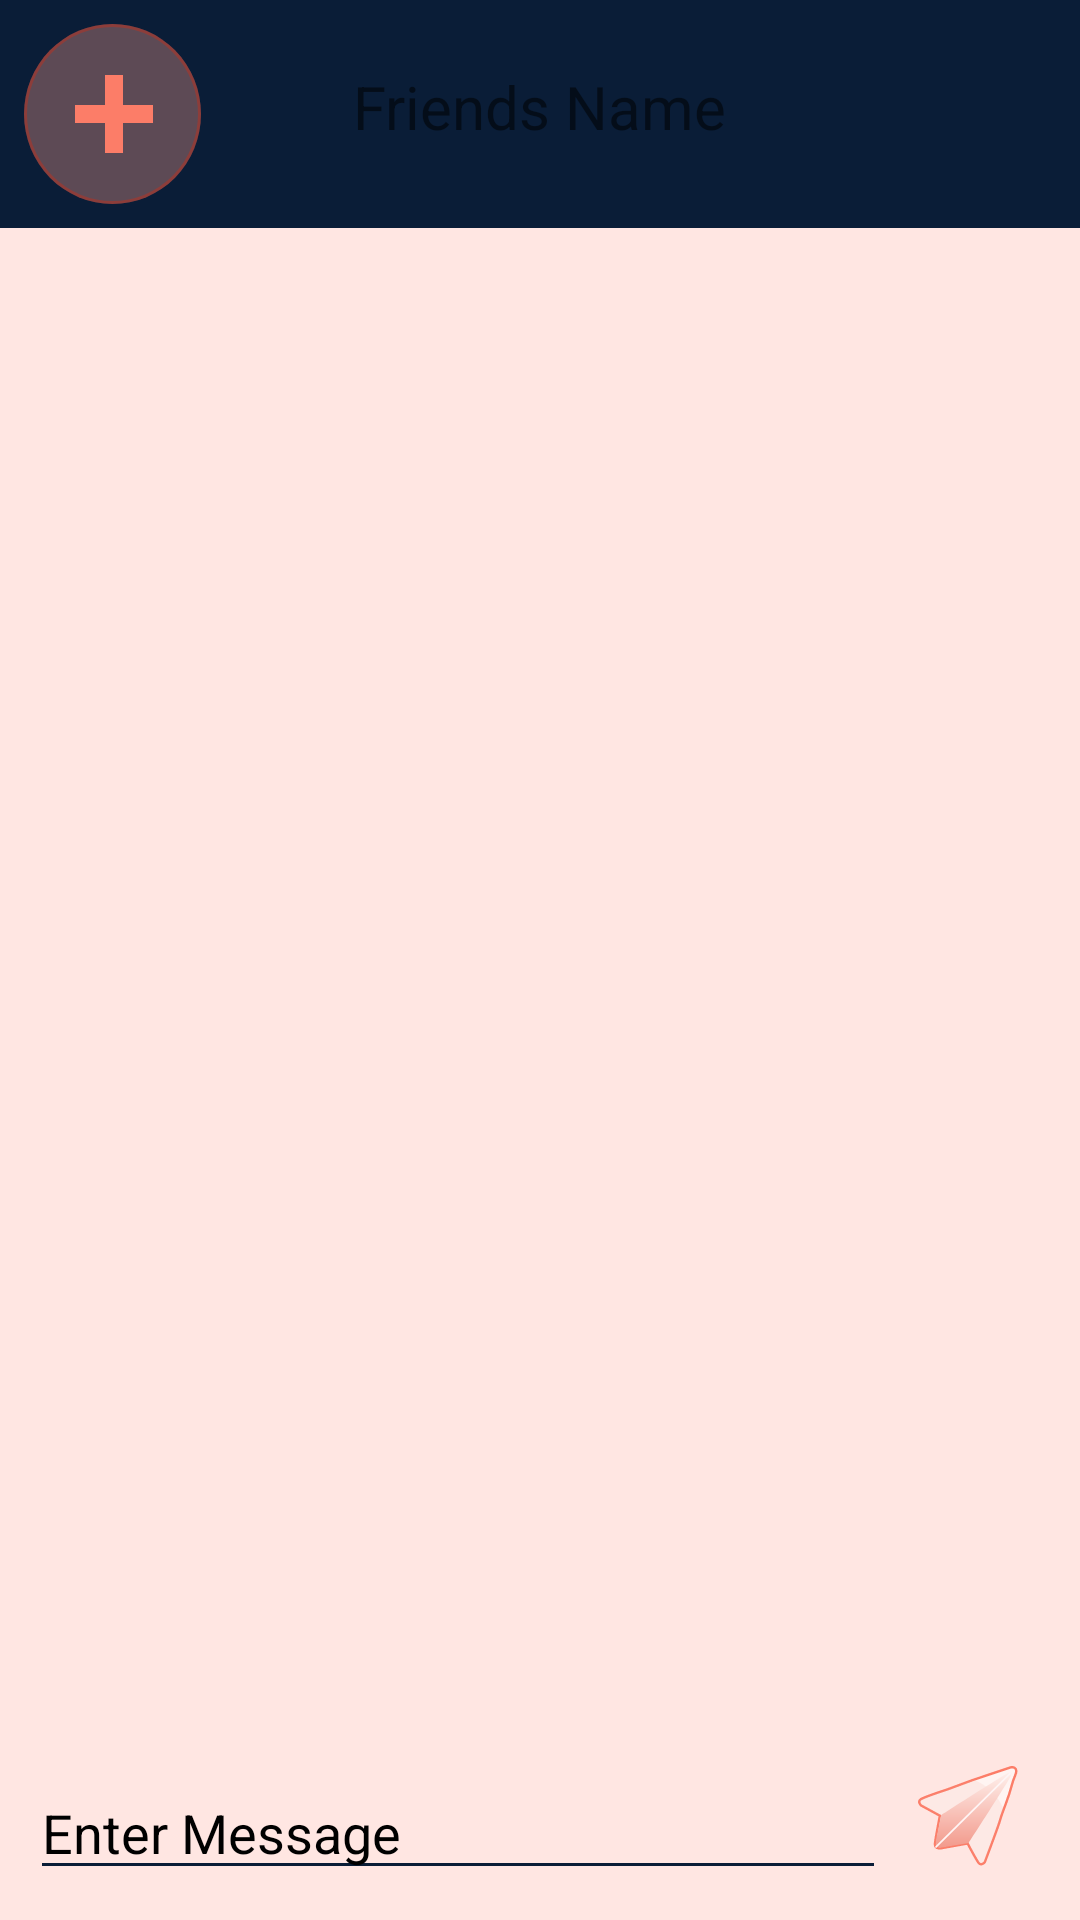

Screen size 1080 × 1920. Icon name, then its box in pixels as [x1=x1, y1=y1, x2=x2, y2=y2]:
add: [x1=24, y1=24, x2=201, y2=204]
send: [x1=918, y1=1766, x2=1018, y2=1866]
